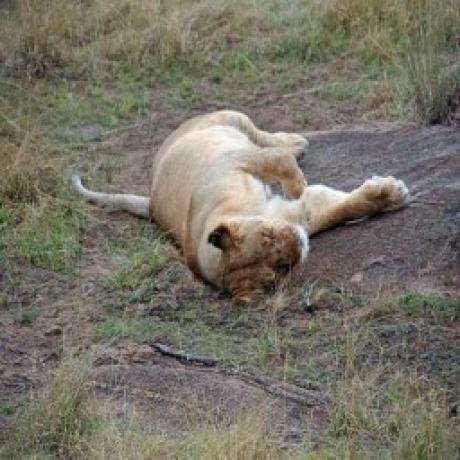Lion: (67, 108, 423, 302)
